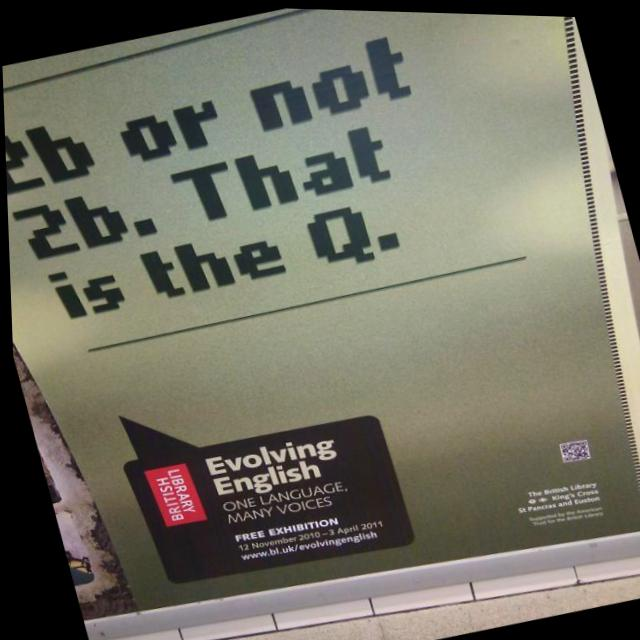qrcode: (558, 438, 586, 459)
